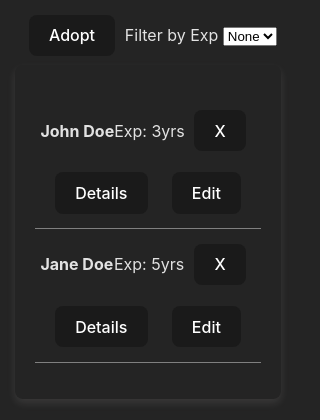
OwnerList Component › filters list based on filter selection
The image size is (320, 420).
Select "5" in the dropdown labelled "Filter by Exp" at (250, 37), box [223,27,277,46]
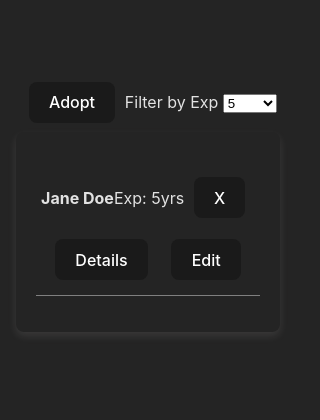
Expected: the text "Jane Doe" is shown, [41,188,114,208]
Expected: the text "John Doe" is gone
Select "3" in the dropdown labelled "Filter by Exp" at (250, 104), box [223,94,277,113]
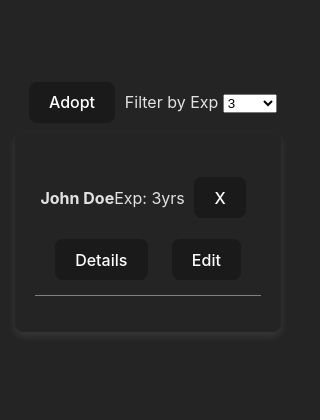
Expected: the text "Jane Doe" is gone
Expected: the text "John Doe" is shown, [40,188,114,208]
Select "None" in the dropdown labelled "Filter by Exp" at (250, 104), box [223,94,277,113]
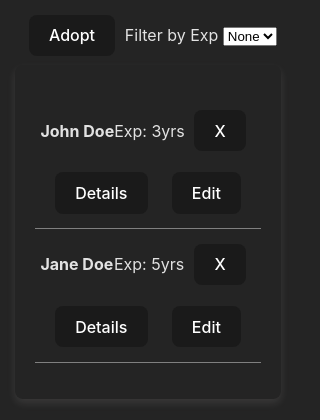
Expected: the number of buttons "Details" is 2, [55,172,148,214]; [55,306,148,347]
